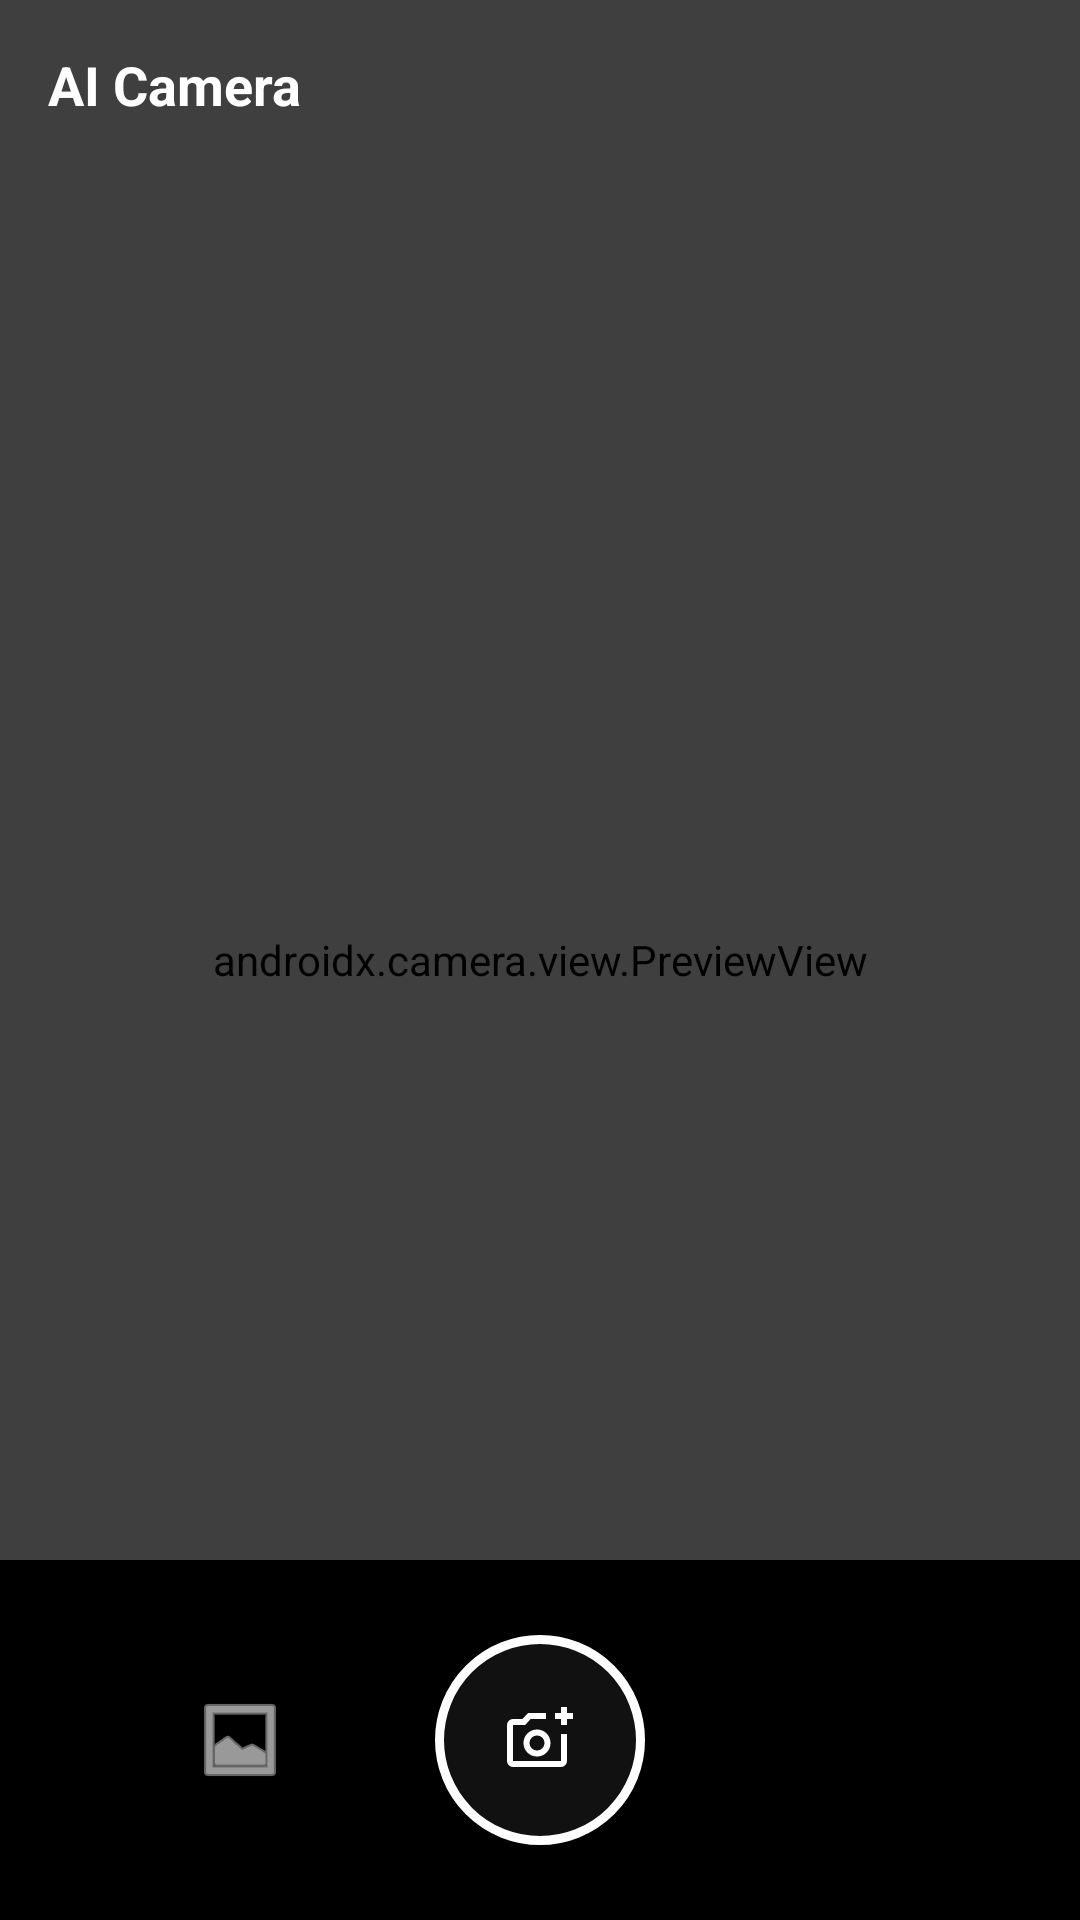

Locate icon controls on the screen. Image size 1080px x 1920px, boxes as bbox=(x1, y1, x2, y2).
gallery: bbox=(204, 1704, 276, 1776)
